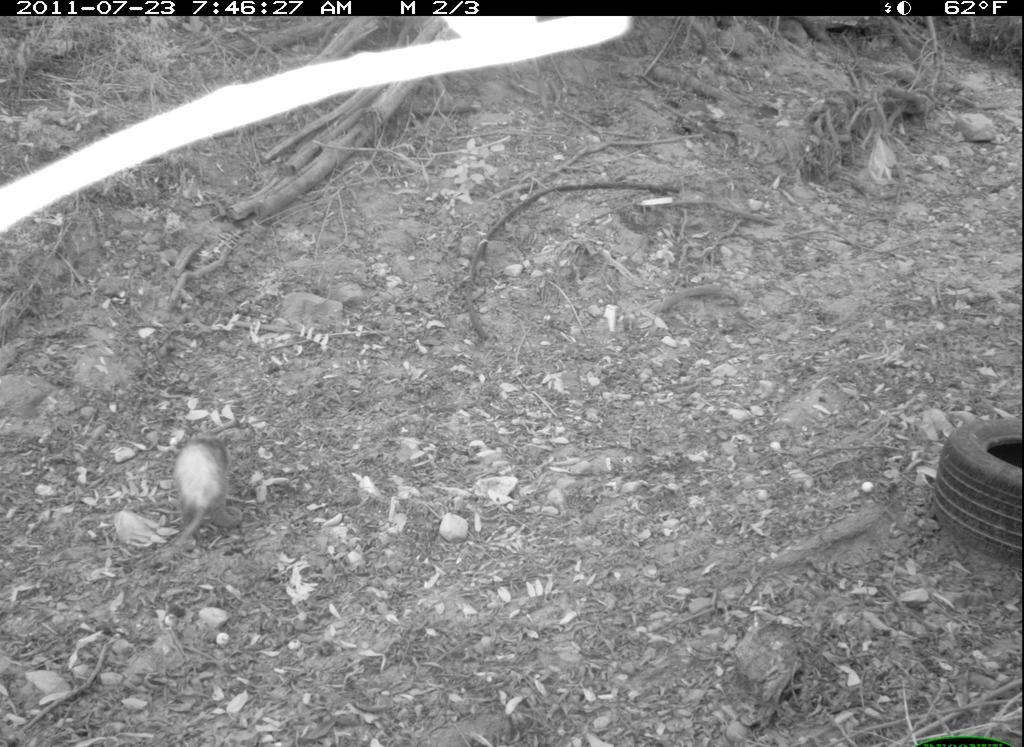opossum: (147, 423, 252, 566)
